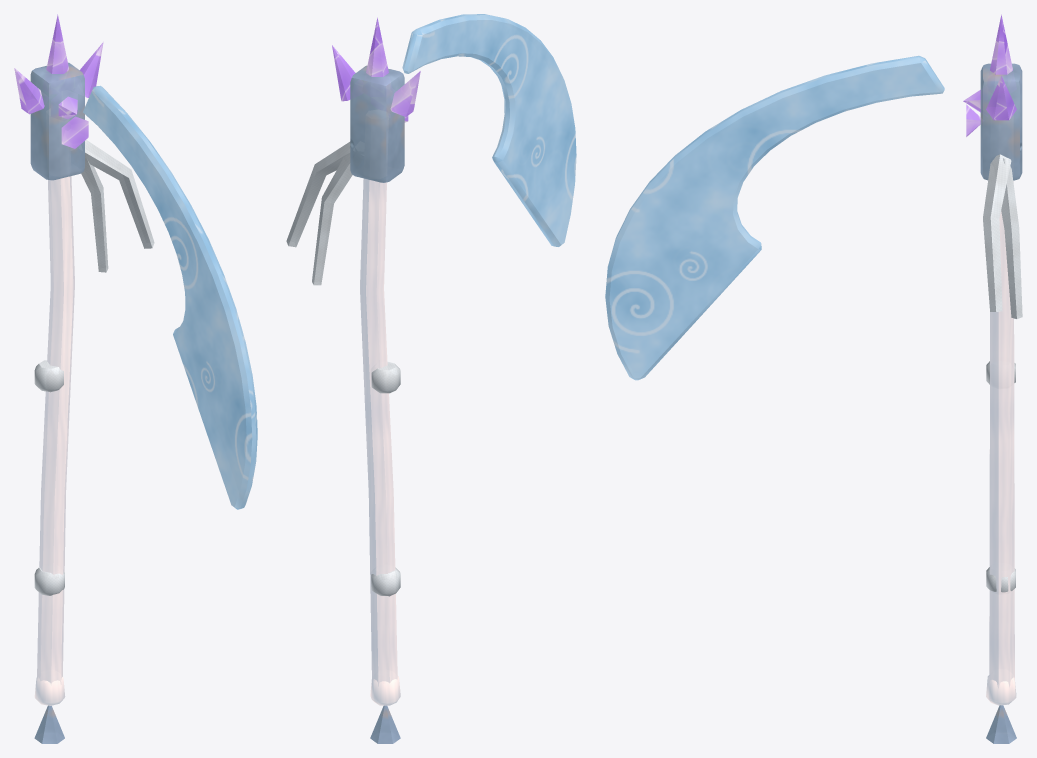
Rendered from scythe_t4.gltf.
3 views of the same model, side by side, from view 1: azimuth 30°, elevation 25°; view 2: azimuth 150°, elevation 25°; view 3: azimuth 270°, elevation 25° (orthographic).
Visible parts, largest first — view 1: scythe_t4_mesh; view 2: scythe_t4_mesh; view 3: scythe_t4_mesh.
Part boxes in pixels (x1,y1,x2,y2): scythe_t4_mesh: (14, 14, 257, 743); scythe_t4_mesh: (286, 14, 576, 743); scythe_t4_mesh: (605, 14, 1022, 743).
Bounding box in the file's own units: 0.3093 × 1.55 × 0.8049.
Materials: 5 (5 with a texture image).
